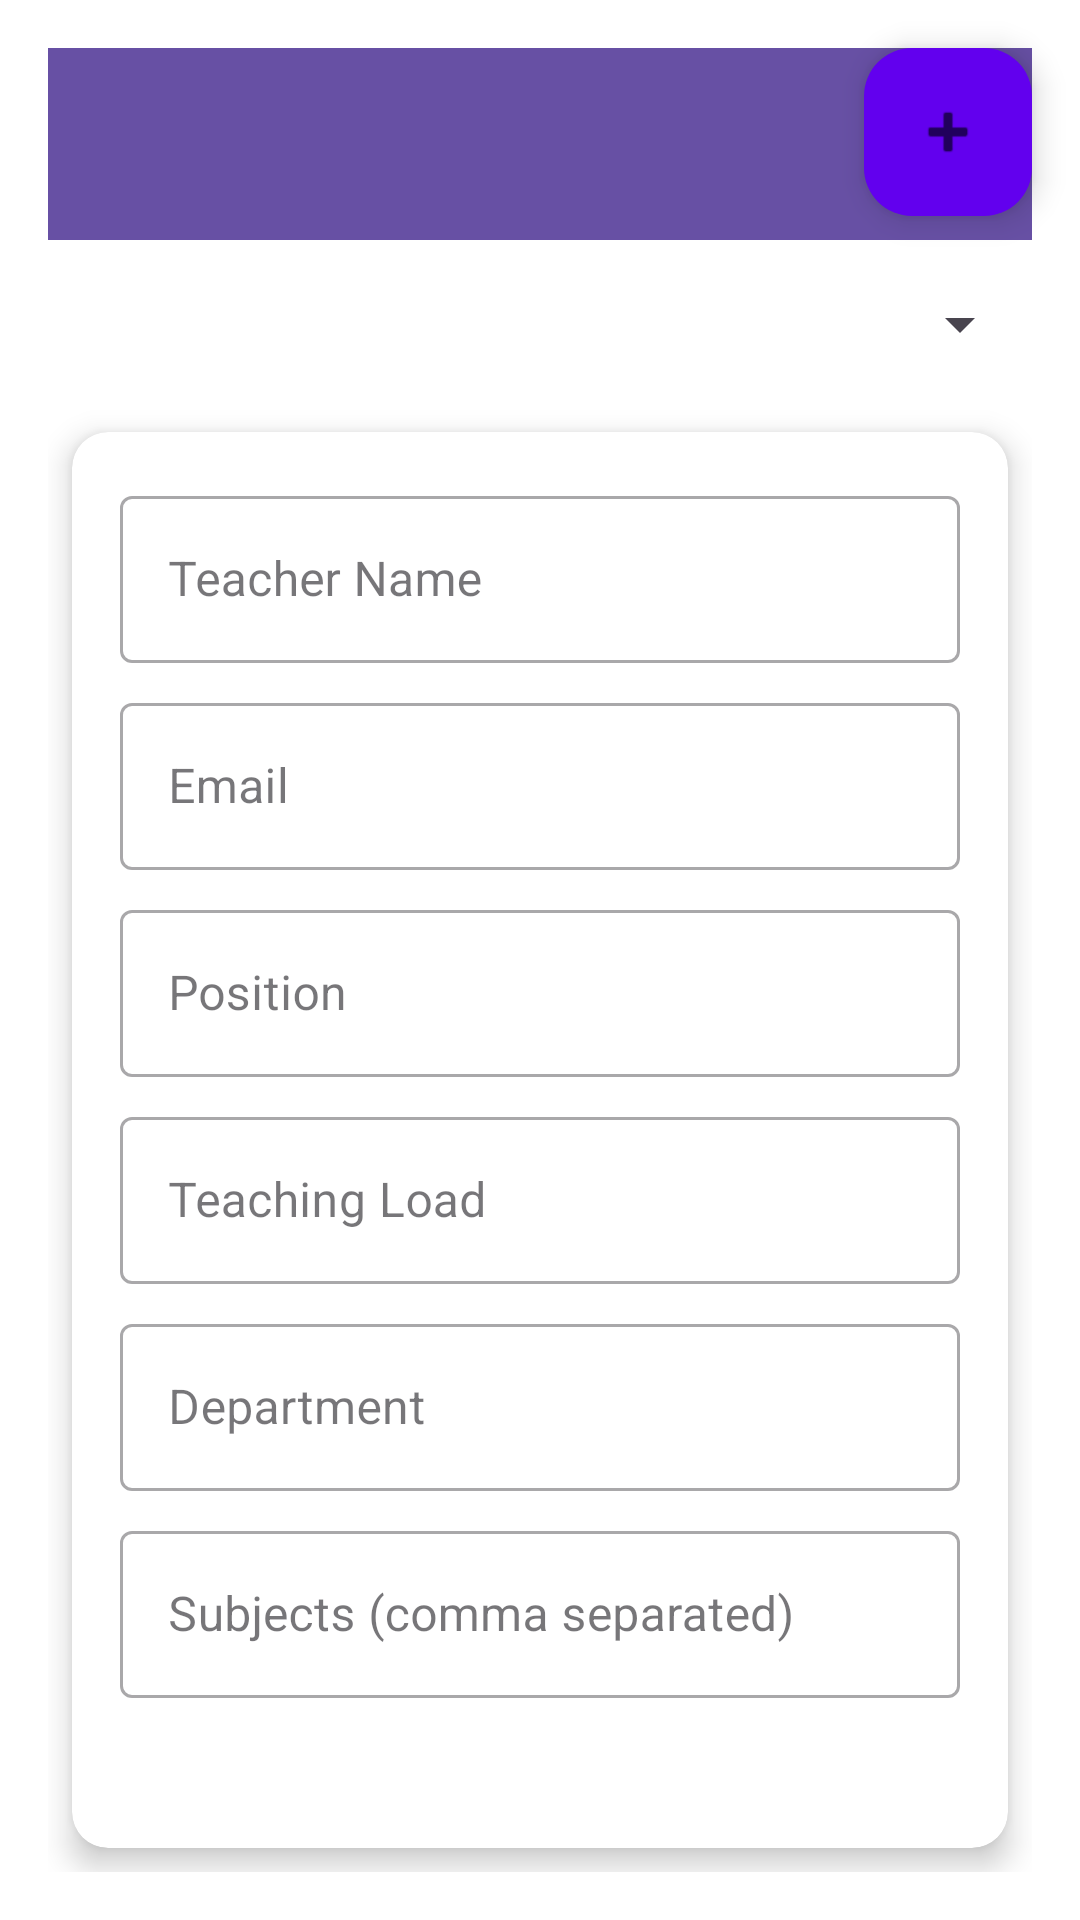

Icons on this 1080px×1920px Android screen, each with the point to tap as (x,y):
add: (948,132)
